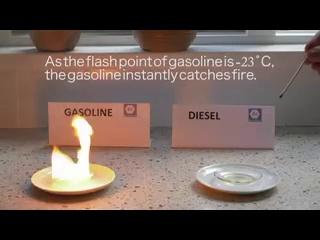Fire: (50, 115, 95, 184)
